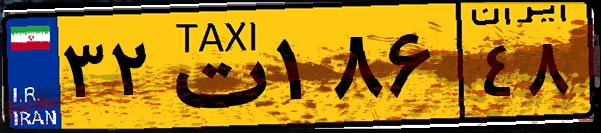1: (270, 28, 330, 110)
2: (110, 28, 158, 98)
3: (57, 26, 110, 100)
4: (475, 38, 525, 113)
6: (385, 28, 445, 110)
8: (330, 28, 385, 110), (525, 38, 570, 115)
ت: (158, 12, 270, 120)
